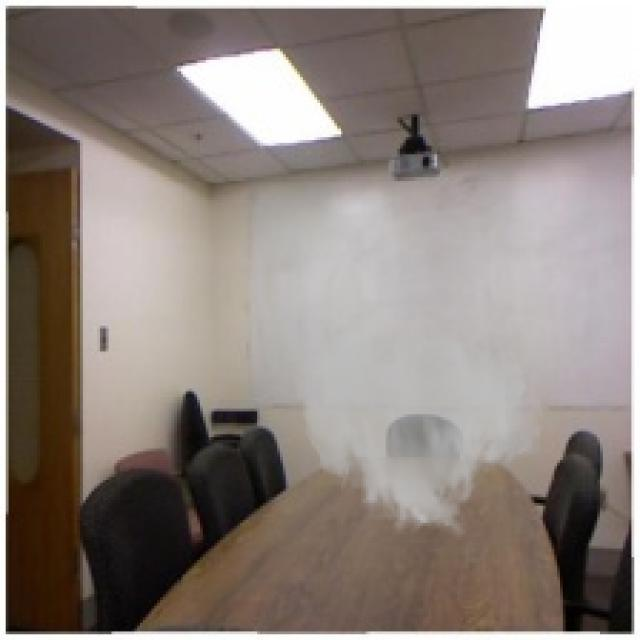smoke: (291, 320, 546, 540)
